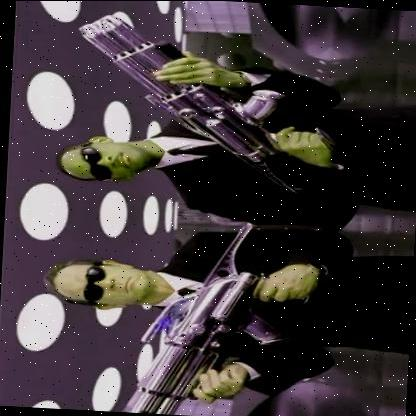rifle: (62, 14, 335, 200), (109, 230, 321, 416)
